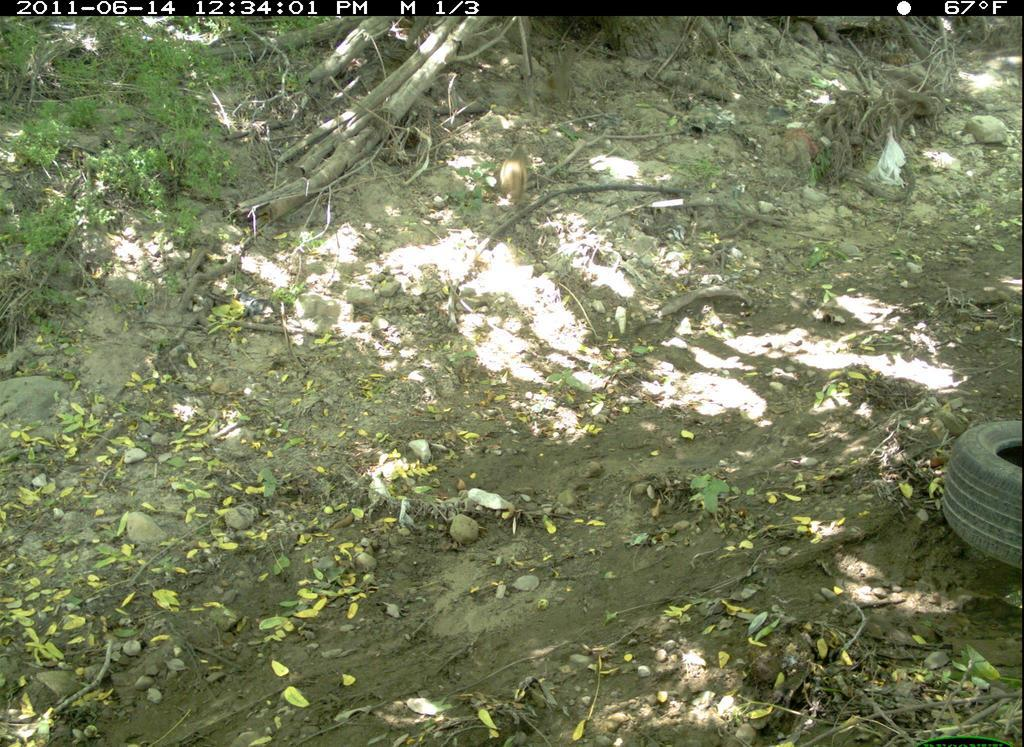squirrel: (483, 129, 546, 221)
